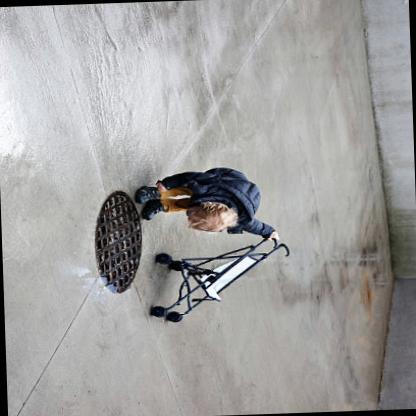manholes: (74, 179, 154, 306)
